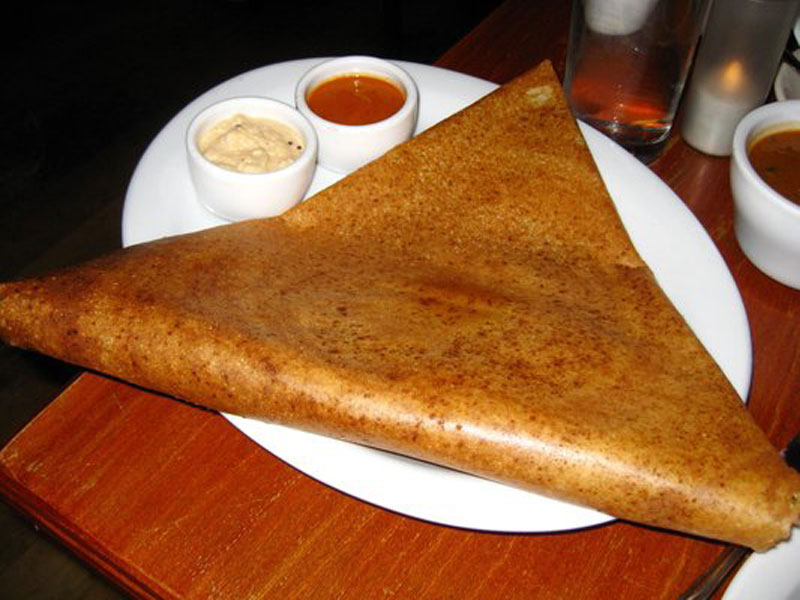dosa: (3, 61, 800, 556)
